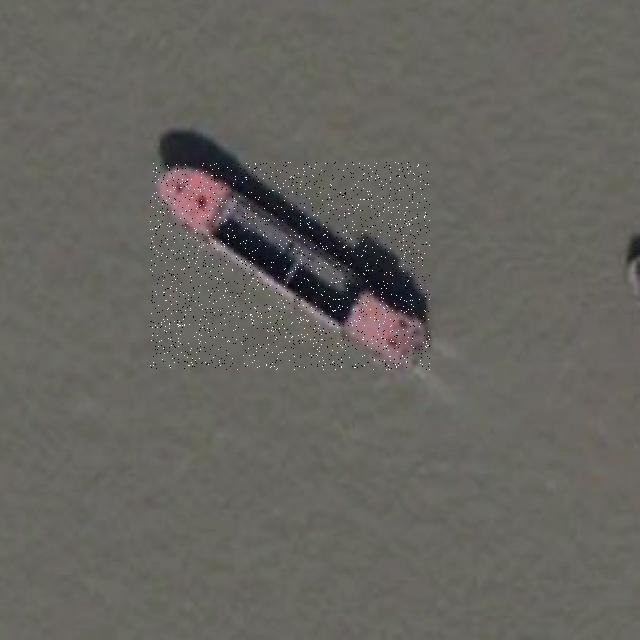boat: (150, 162, 430, 370)
